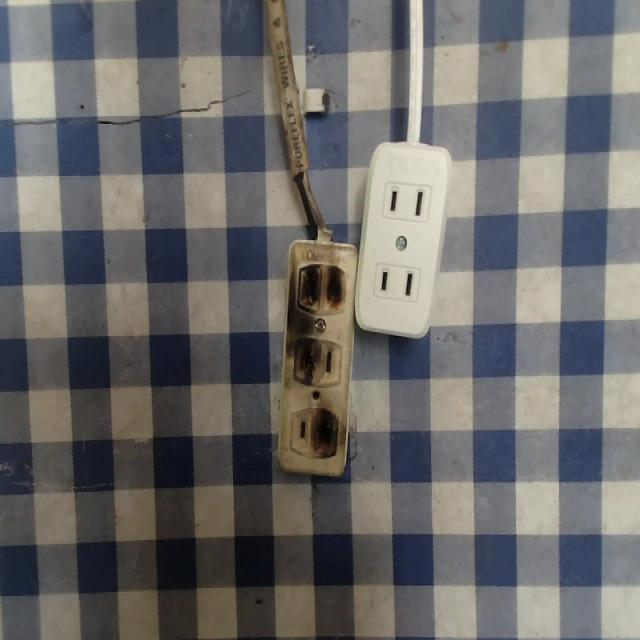-: (289, 253, 352, 320), (290, 331, 323, 392), (309, 404, 339, 468)
